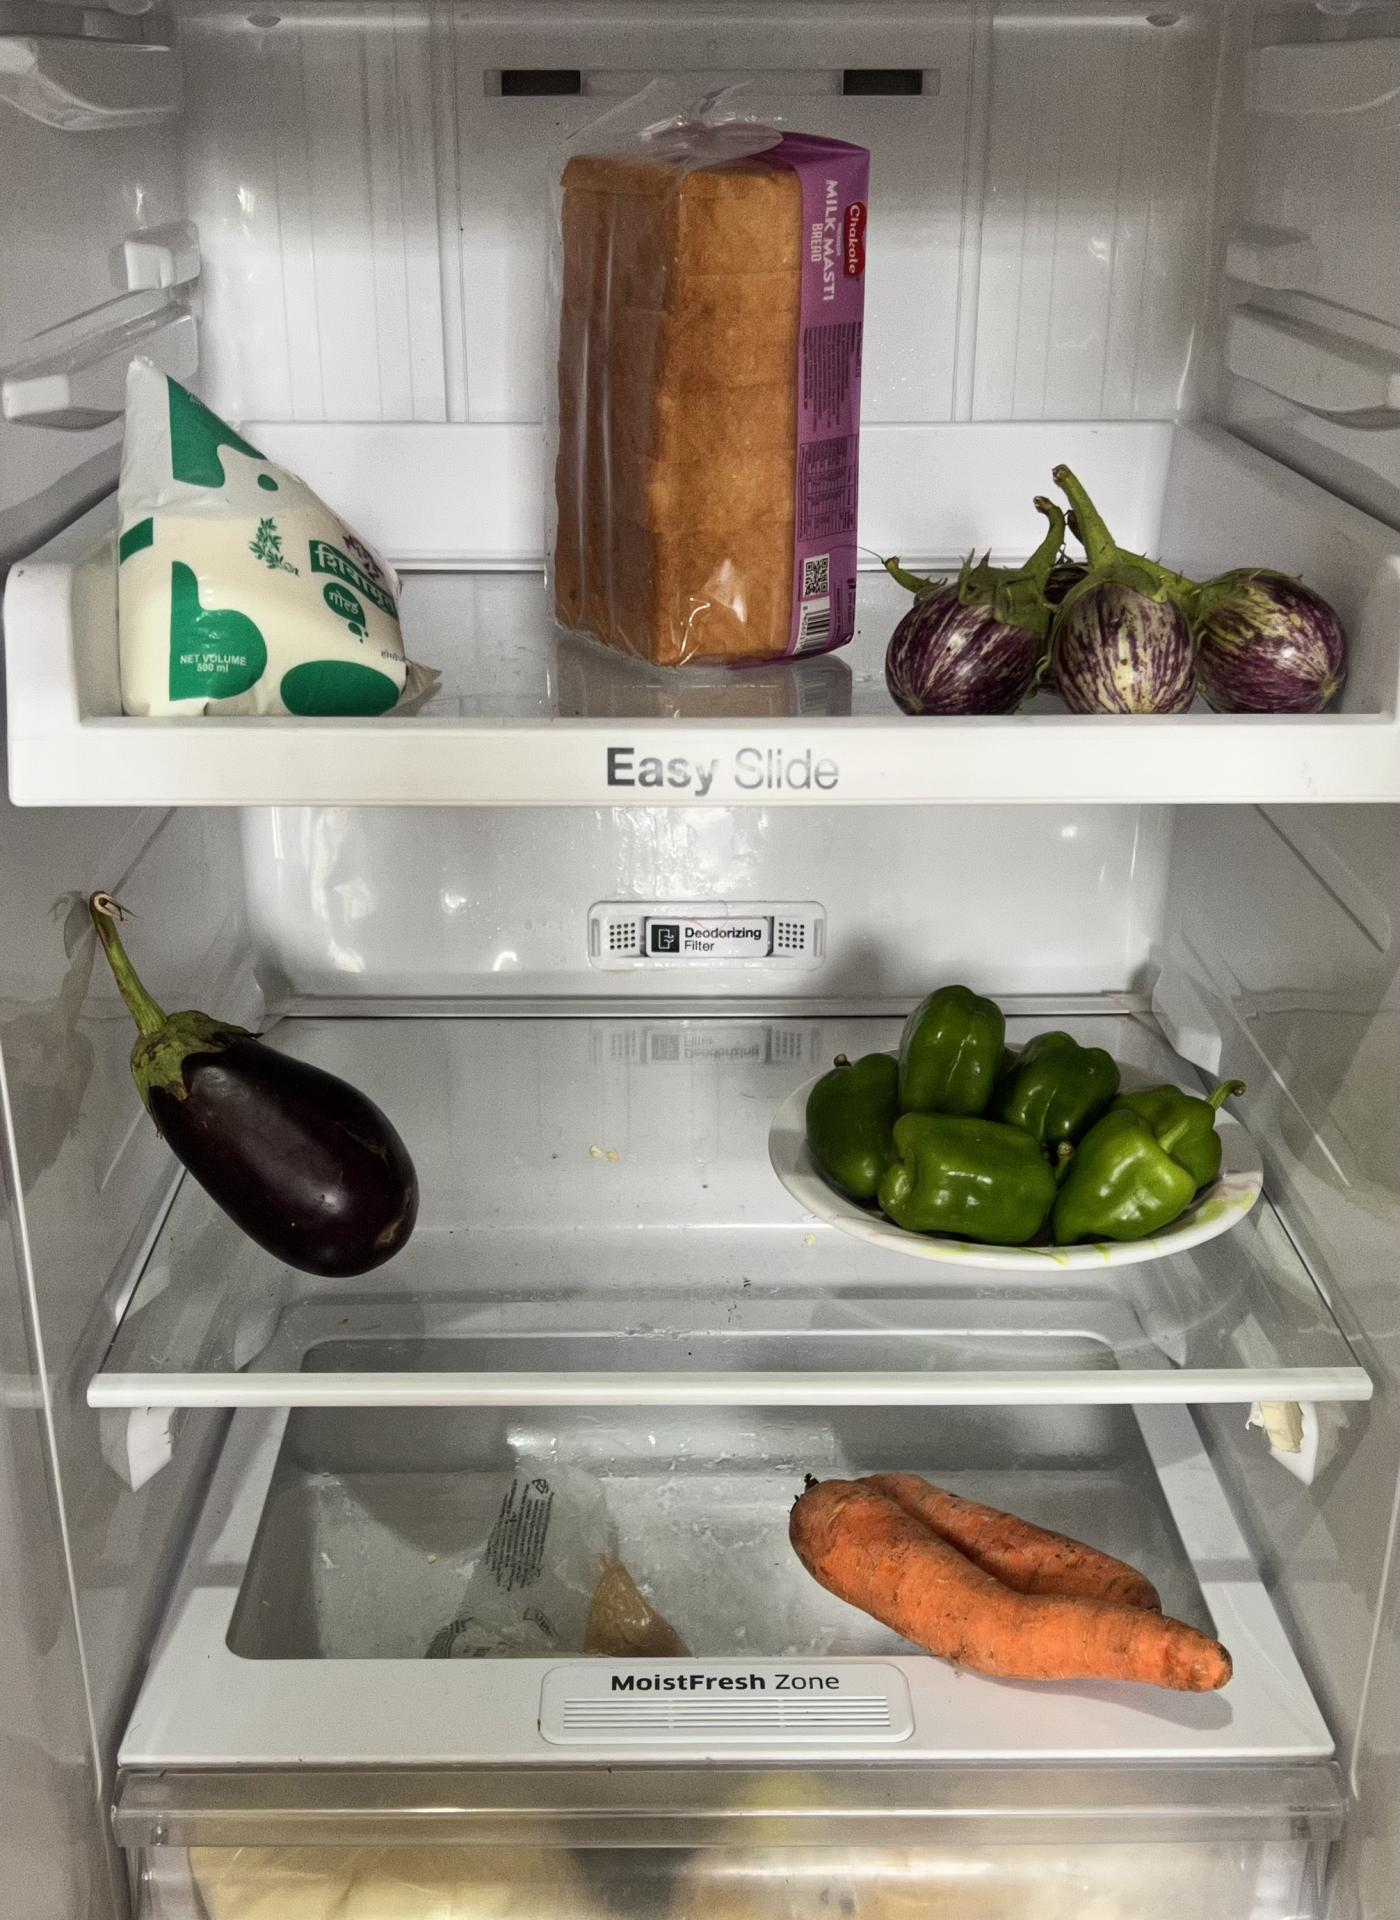bread: (540, 103, 866, 674)
capsicum: (796, 984, 1230, 1248)
carrots: (789, 1459, 1232, 1702)
milk: (110, 346, 429, 717)
